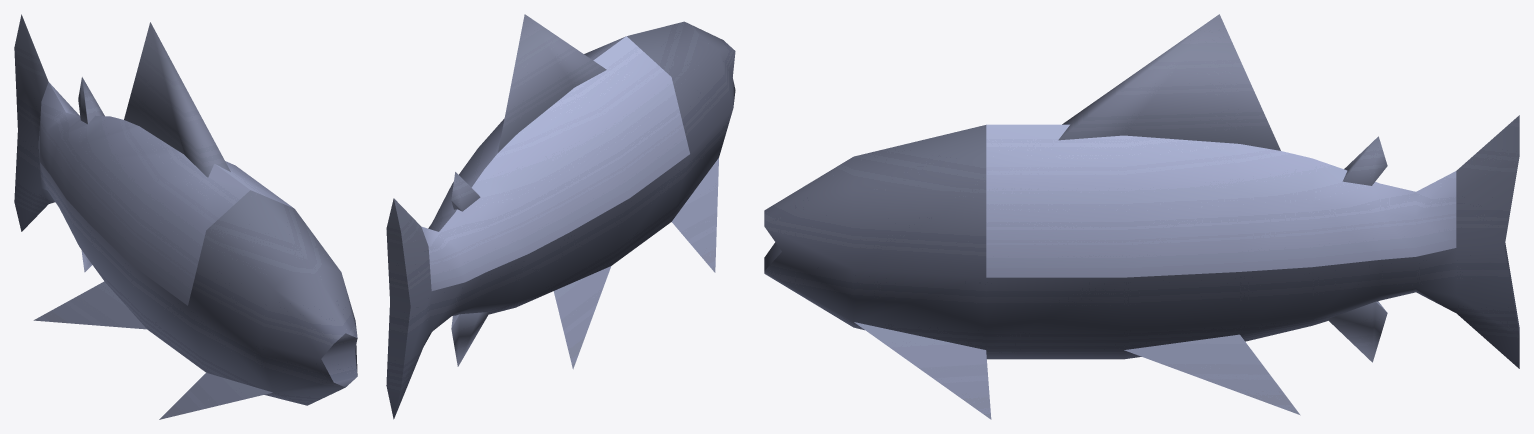
File: fish.glb
3 renders of one model, left to right at view 1: azimuth 30°, elevation 25°; view 2: azimuth 150°, elevation 25°; view 3: azimuth 270°, elevation 25°, orthographic. The views are drawn at different scales.
Visible parts, largest first — view 1: fish; view 2: fish; view 3: fish.
Boxes of the visible parts, <box> form: fish: <box>14,14,357,419</box>; fish: <box>386,14,735,419</box>; fish: <box>764,14,1519,419</box>.
Bounding box in the file's own units: 0.1978 × 0.3222 × 0.6208.
1 material, 1 textured.
